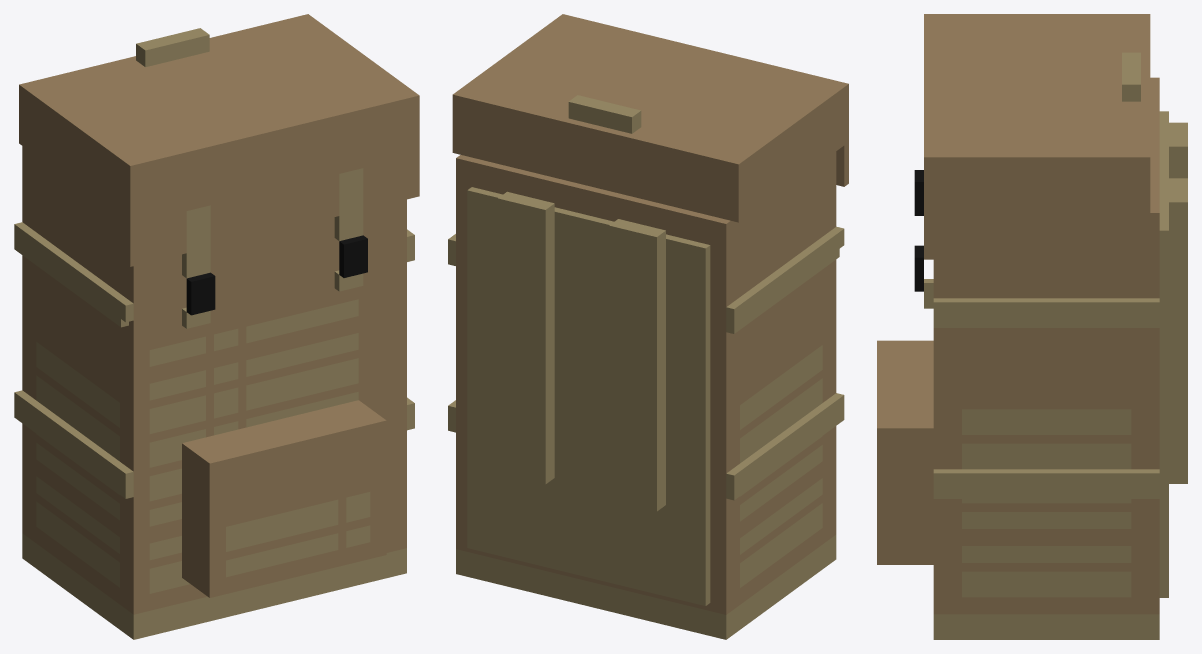
The model's file is molle_medium_rucksack.glb.
3 renders of one model, left to right at view 1: azimuth 30°, elevation 25°; view 2: azimuth 150°, elevation 25°; view 3: azimuth 270°, elevation 25°, orthographic. The views are drawn at different scales.
Parts seen in each view (by area): view 1: molle_medium_rucksack:compound; view 2: molle_medium_rucksack:compound; view 3: molle_medium_rucksack:compound.
Part boxes in pixels (left/top/right/bottom): molle_medium_rucksack:compound: left=14, top=14, right=419, bottom=639; molle_medium_rucksack:compound: left=448, top=14, right=848, bottom=639; molle_medium_rucksack:compound: left=877, top=14, right=1187, bottom=639.
Bounding box in the file's own units: 0.36 × 0.59 × 0.33.
